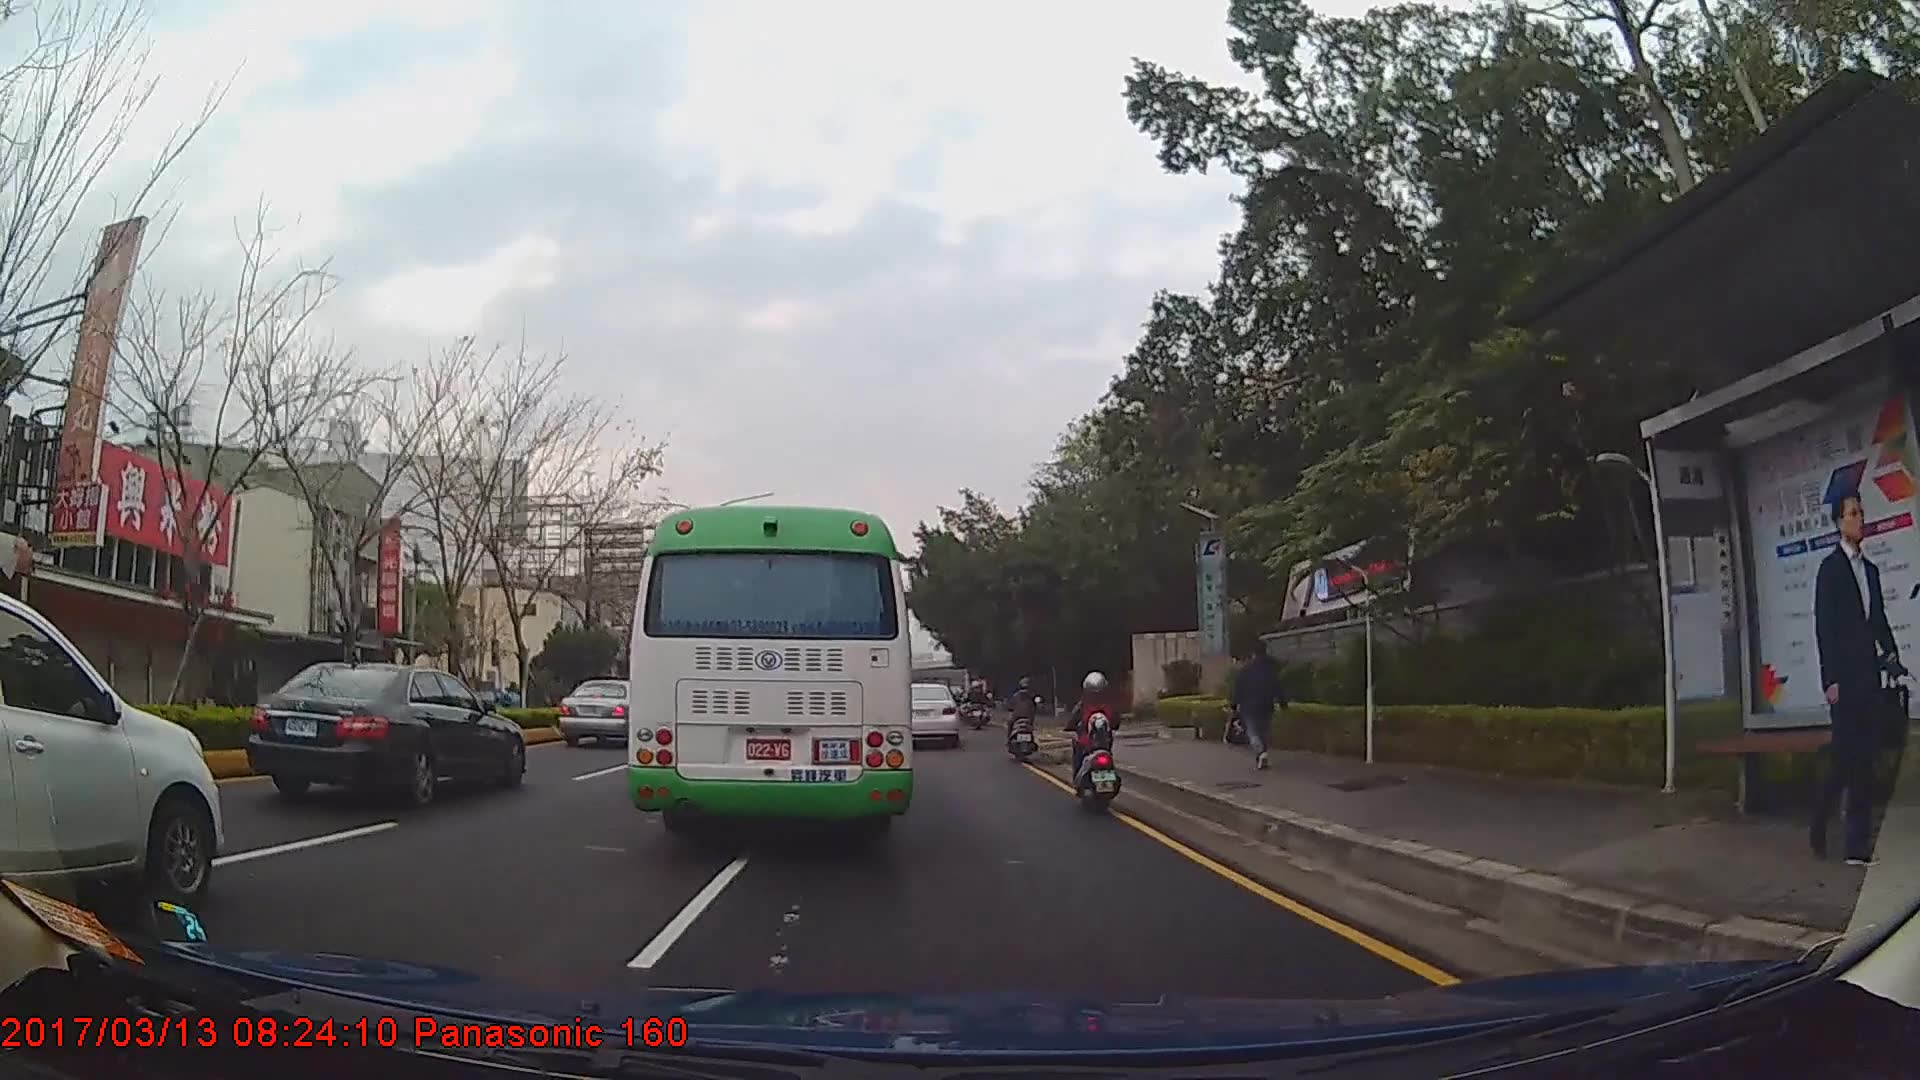pedestrian: (1811, 483, 1908, 867), (1228, 636, 1294, 773)
rider: (1070, 671, 1125, 808), (1008, 671, 1045, 759), (968, 680, 988, 718)
vehicle: (627, 506, 914, 850), (0, 590, 225, 912), (247, 658, 527, 807), (557, 676, 649, 748), (892, 682, 960, 747)
